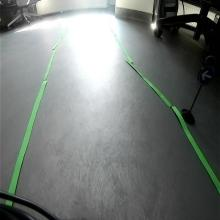left: (197, 64, 215, 86)
